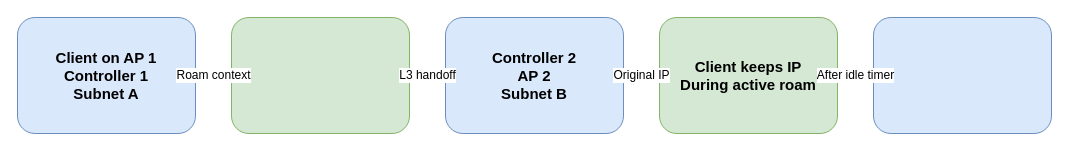
Image size: 1069x151. Some labels were removed from this diagram. Each missing label, with the box of its shape:
Idle timeout DHCP rehome Subnet B: (872, 16, 1052, 134)
Mobility tunnel Client context and forwarding: (230, 16, 410, 134)
